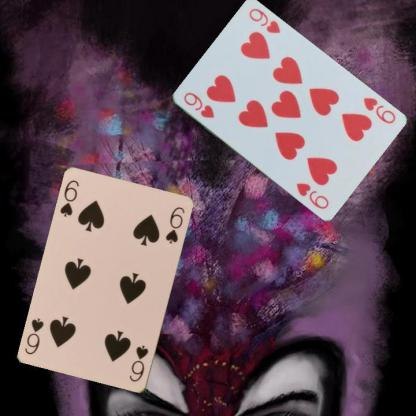6s: (127, 342, 150, 384), (58, 178, 80, 218)
9h: (360, 95, 396, 125), (180, 90, 216, 119)
